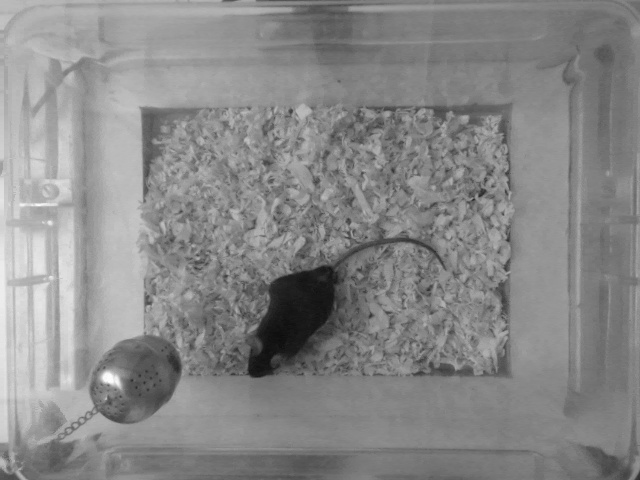mice: (244, 234, 447, 380)
